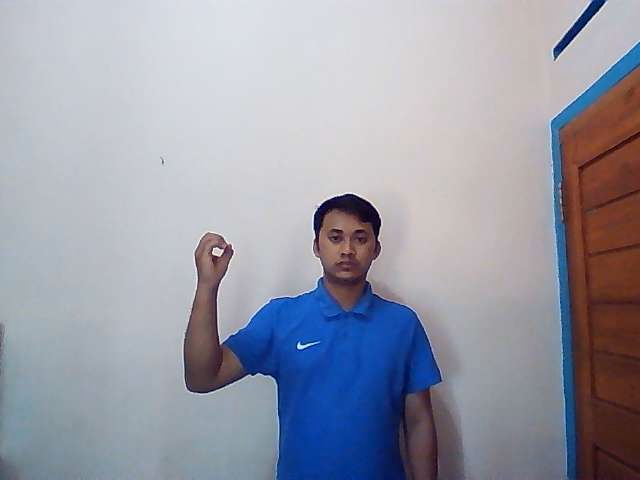O: (193, 230, 234, 285)
